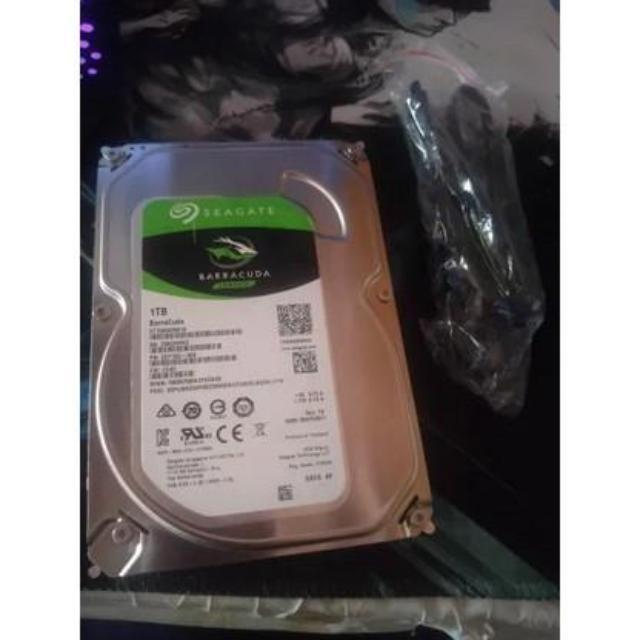DISK: (80, 128, 445, 584)
